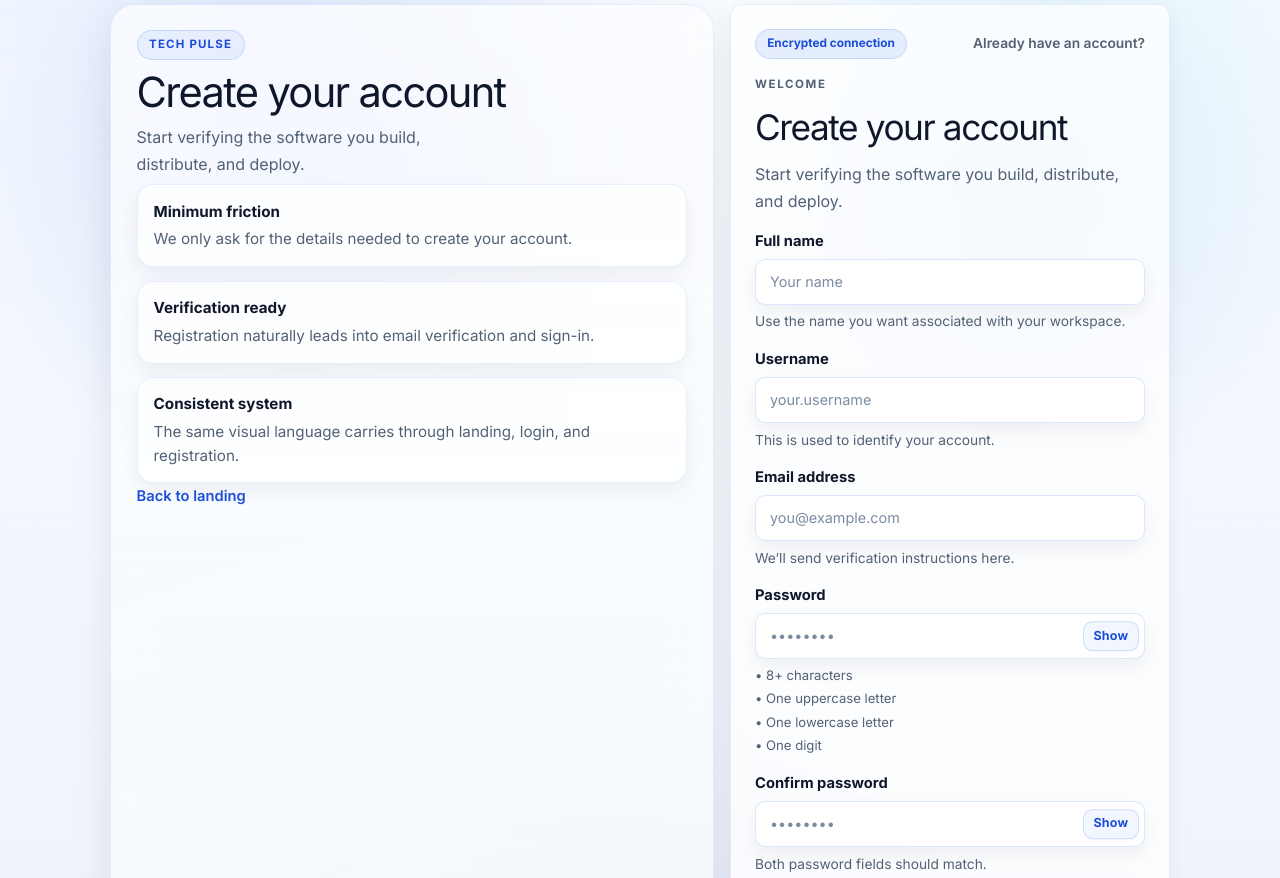
Test case: RegisterRoutePage › registers and shows the verification step
The width and height of the screenshot is (1280, 878).
Type "Ada Lovelace" into the field with placeholder "Your name". click: x=950, y=282
box: [755,259,1145,305]
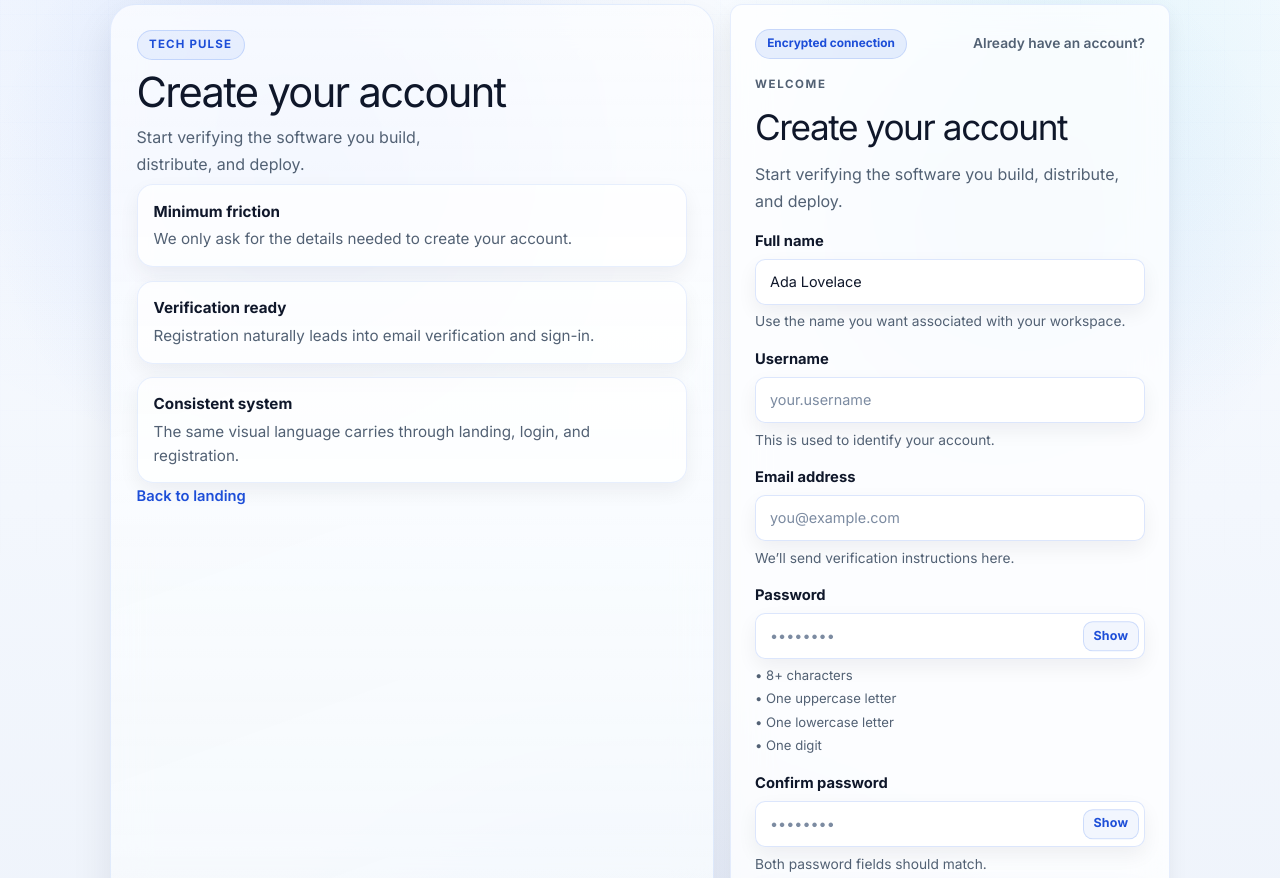
Type "ada" into the field with placeholder "your.username". click: x=950, y=400
box: [755,377,1145,423]
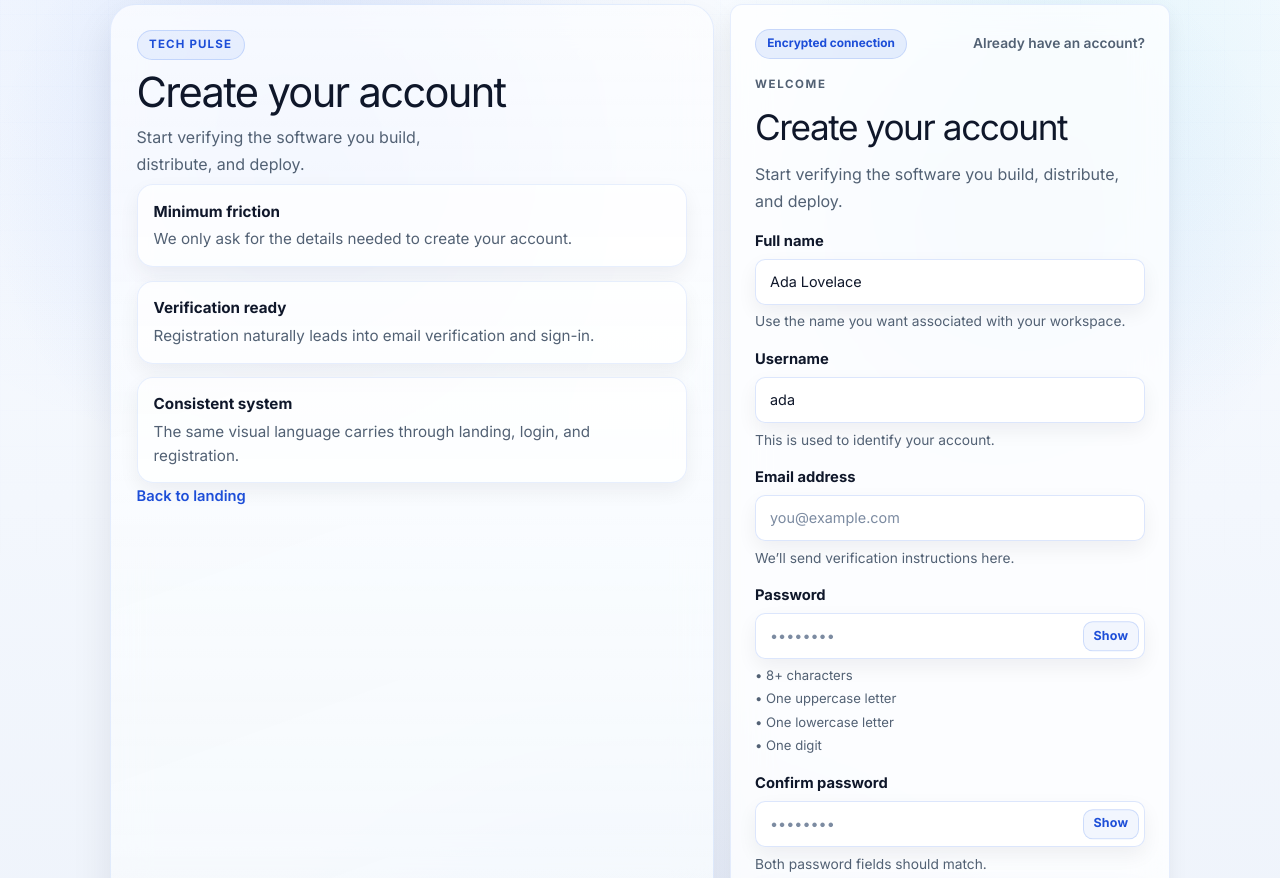
Type "ada@example.test" into the field with placeholder "you@example.com". click: x=950, y=518
box: [755,495,1145,541]
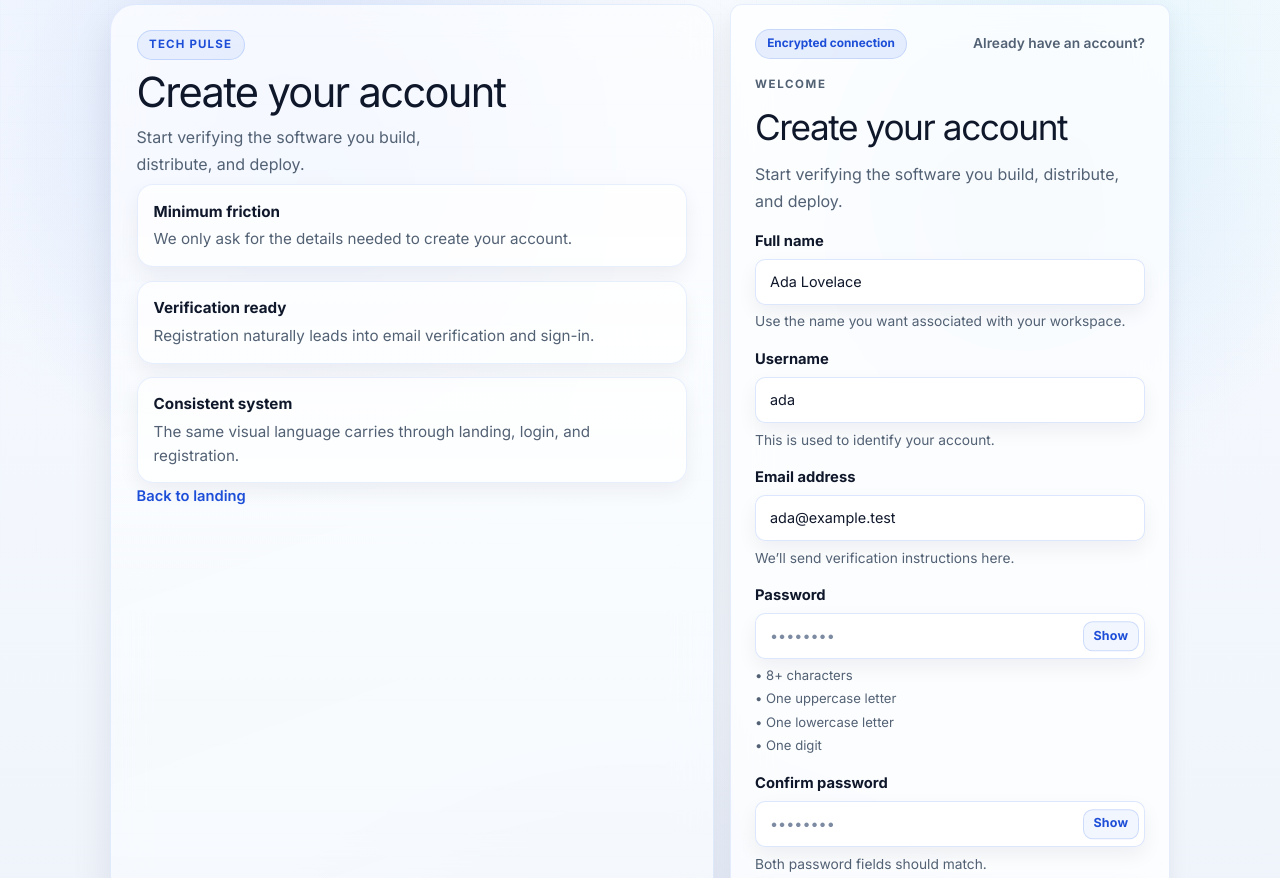
Type "StrongPass1" into the 1st password field with placeholder "••••••••". click: x=950, y=636
box: [755,613,1145,659]
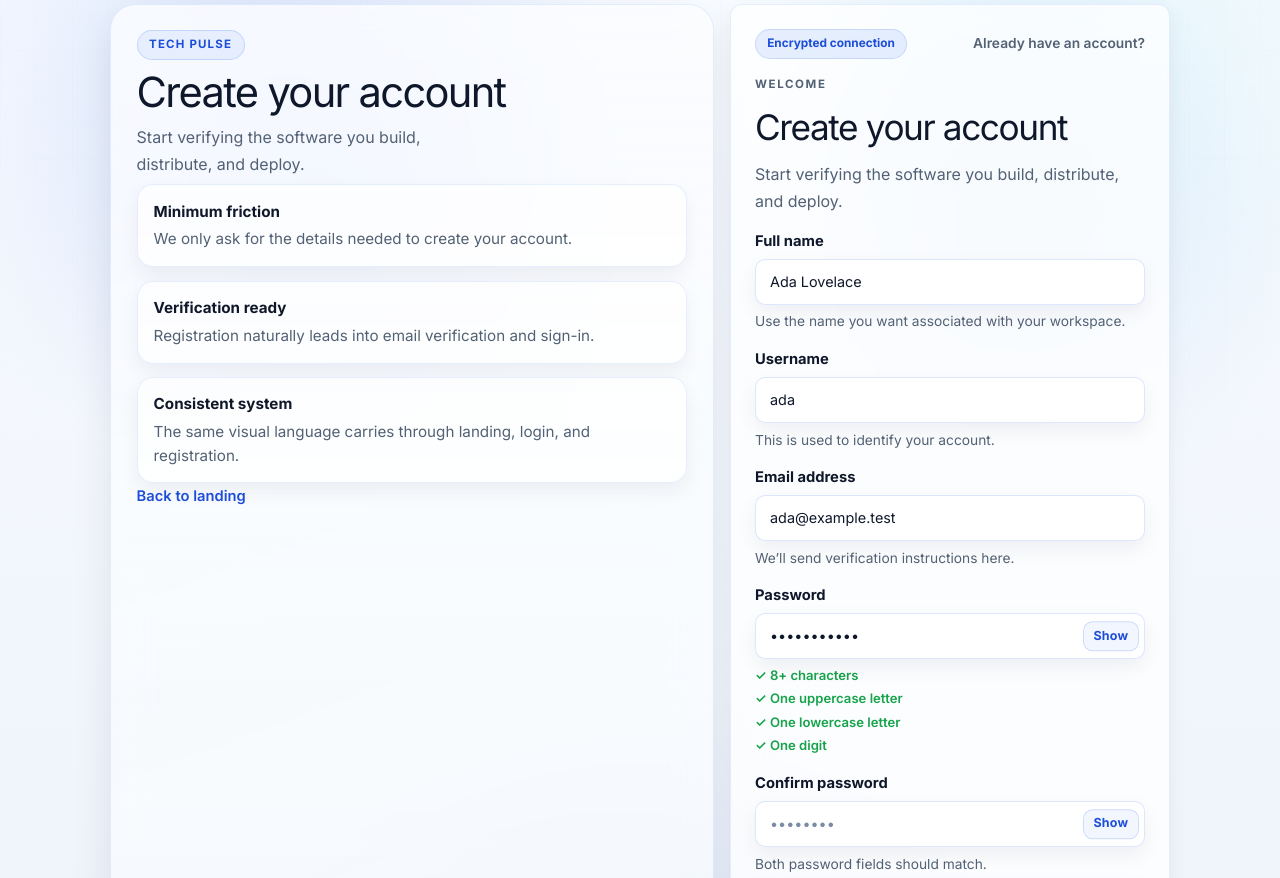
Type "StrongPass1" into the password field with placeholder "••••••••". click: x=950, y=824
box: [755,801,1145,847]
(page scrolled)
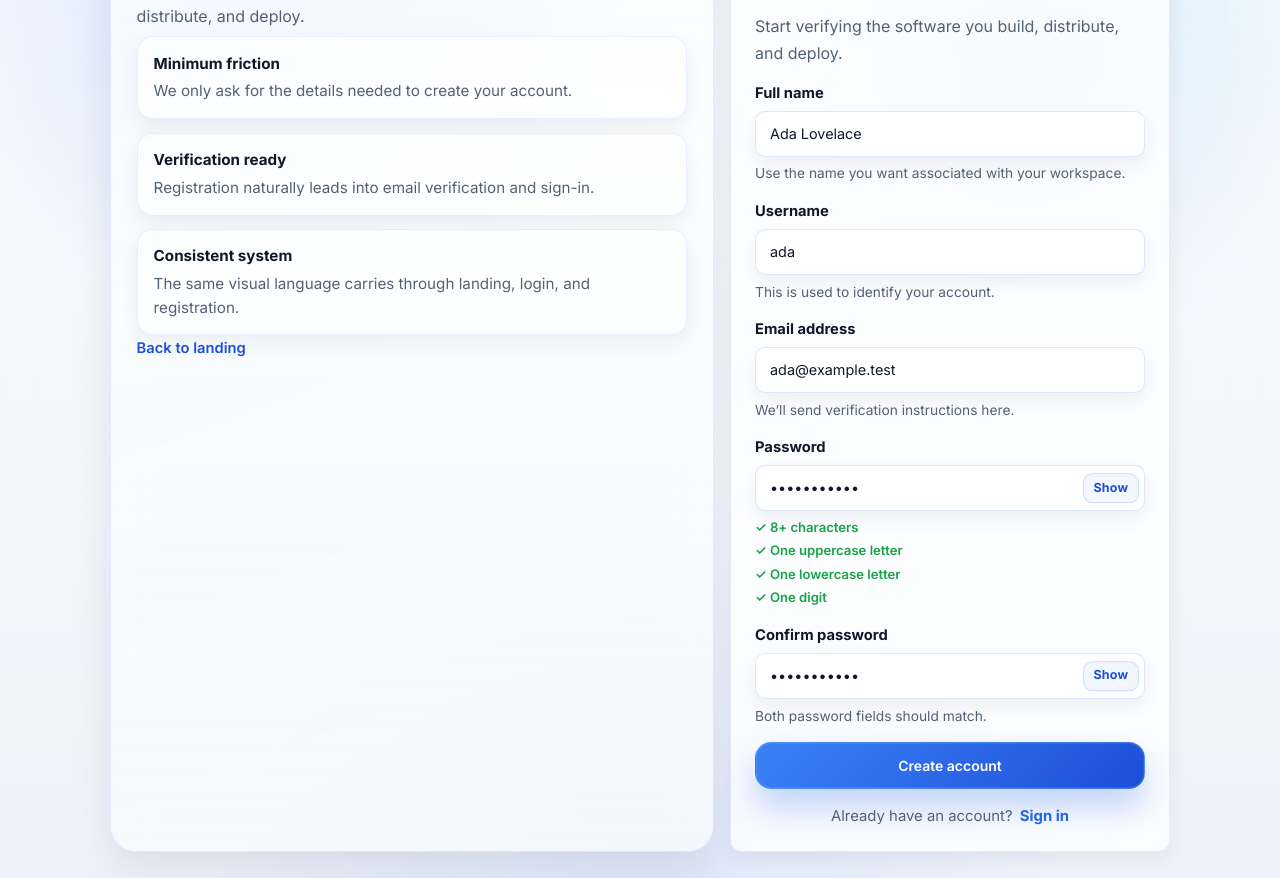
Click the button "Create account". click: x=950, y=766
box: [755,742,1145,789]
(page scrolled)
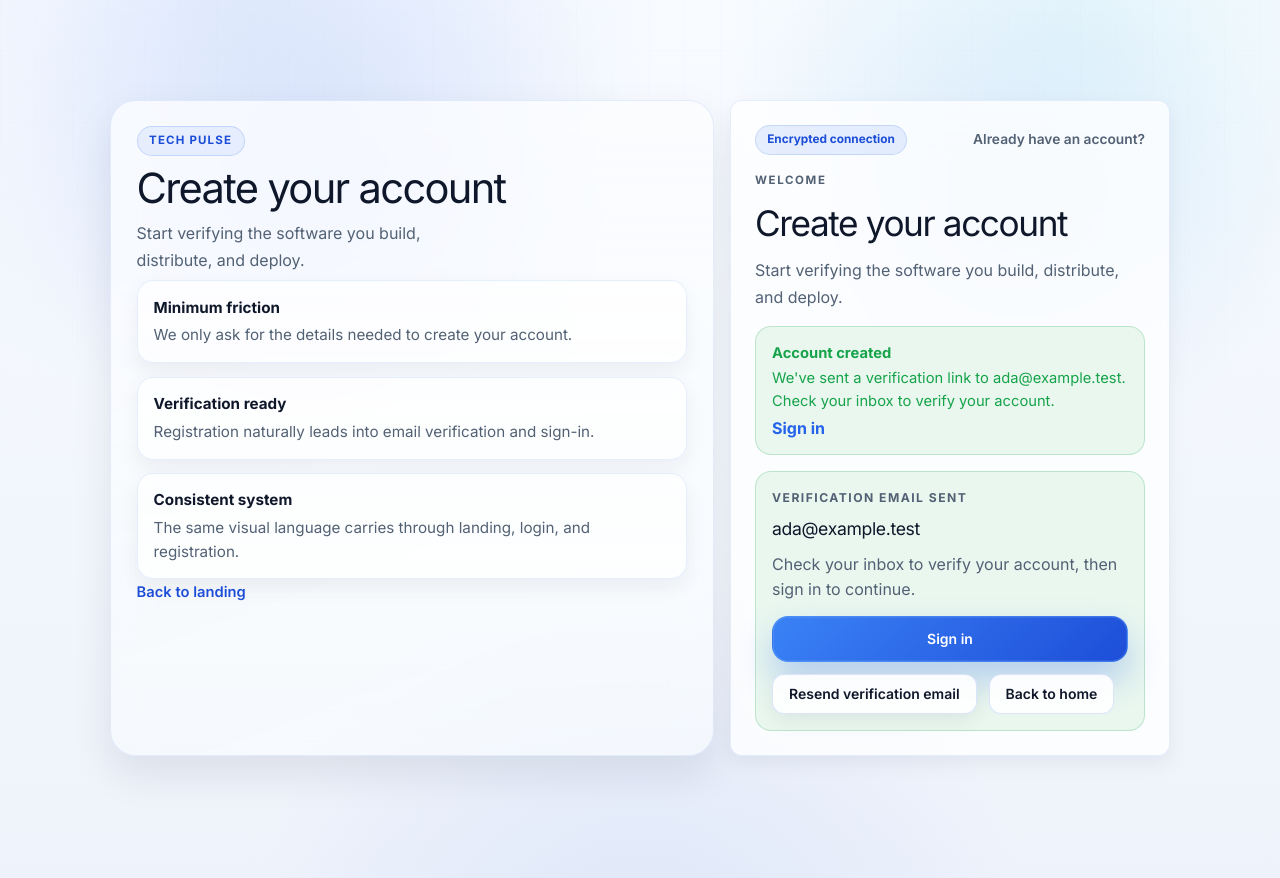
Check: the text "Verification email sent" is shown, box [772,490,967,505]
Check: the heading "ada@example.test" is shown, box [772,518,920,539]
